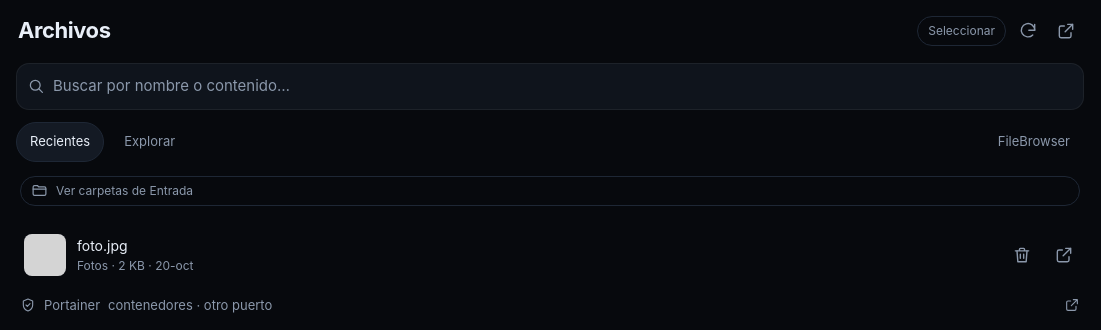
Test: Files · panel NAS nativo › borra un adjunto de Entrada solo tras confirmar
Expected: the text "foto.jpg" is shown, x1=77 y1=236 x2=128 y2=254
Click the button named "Borrar foto.jpg".
click(1022, 254)  # box x1=1002 y1=234 x2=1042 y2=274
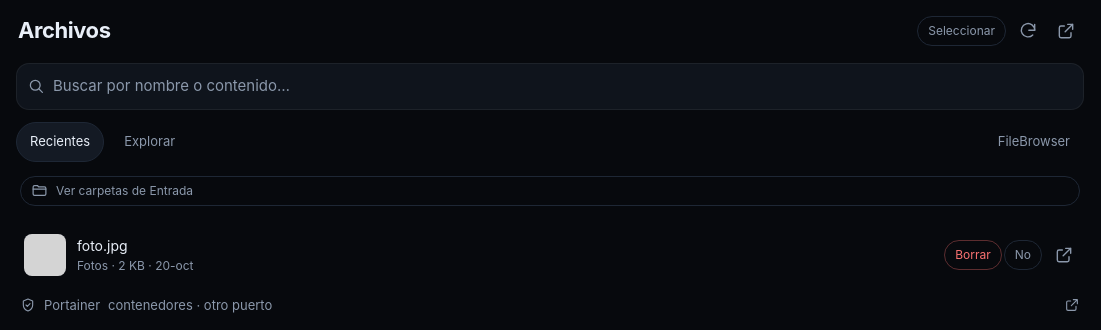
Click the button "Borrar".
click(973, 254)  # box x1=944 y1=240 x2=1002 y2=270
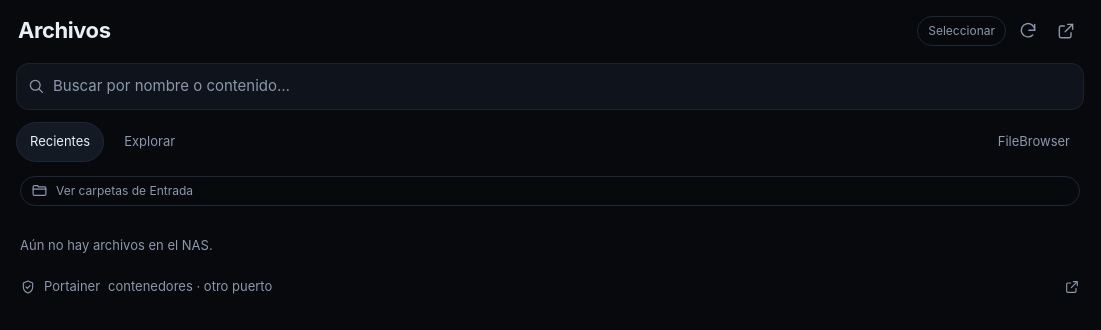
Expected: the button "foto.jpg" is gone
